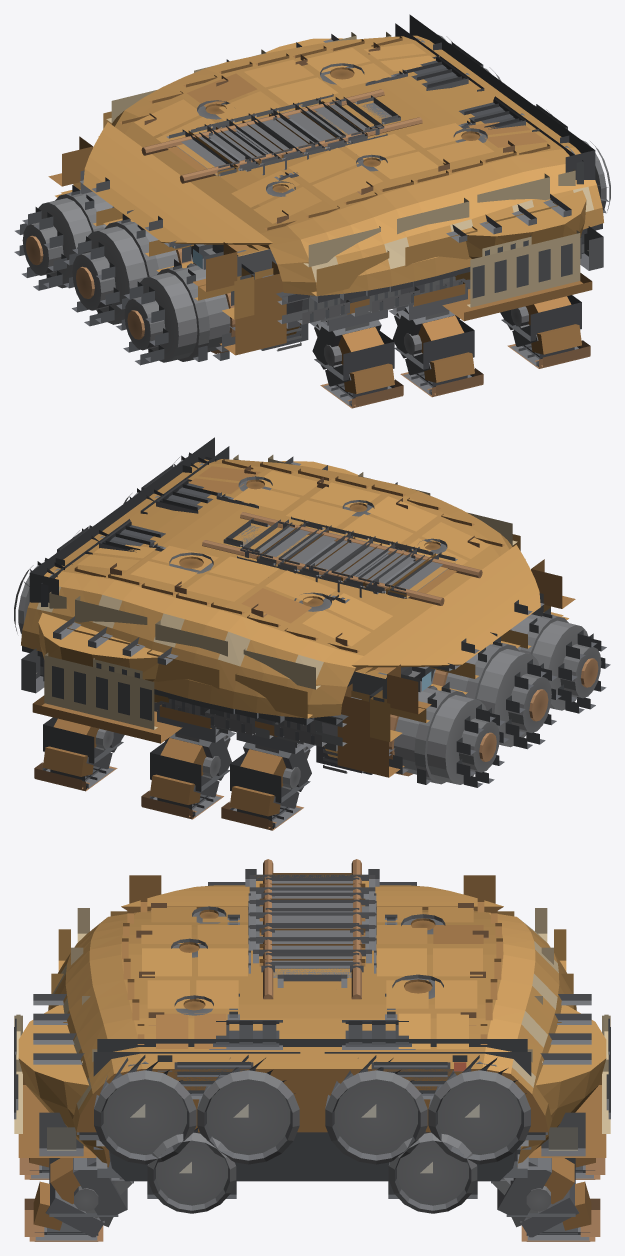
Rendered from imp_tap.glb.
The picture shows the model from 3 angles, top to bottom: view 1: azimuth 30°, elevation 25°; view 2: azimuth 150°, elevation 25°; view 3: azimuth 270°, elevation 25°; orthographic projection. The views are drawn at different scales.
Visible parts, largest first — view 1: armor, shell, drills, drill_mount, engines, leg_1, leg_3, leg_5, machinery, hull; view 2: armor, shell, drills, engines, drill_mount, leg_0, leg_2, leg_4, machinery, hull; view 3: shell, armor, engines, hull, leg_4, leg_5, thrusters, leg_2, leg_3.
Part boxes in pixels (box(x1,y1,x2,y2)): armor: box(48, 32, 603, 321); shell: box(112, 35, 603, 295); drills: box(14, 185, 300, 365); drill_mount: box(55, 182, 308, 355); engines: box(395, 14, 610, 253); leg_1: box(310, 320, 403, 408); leg_3: box(388, 305, 483, 397); leg_5: box(500, 295, 590, 368); machinery: box(276, 276, 470, 351); hull: box(262, 223, 602, 328); armor: box(21, 454, 575, 743); shell: box(21, 459, 512, 718); drills: box(323, 607, 610, 787); engines: box(14, 437, 229, 676); drill_mount: box(316, 605, 568, 777); leg_0: box(221, 742, 314, 830); leg_2: box(141, 728, 235, 819); leg_4: box(34, 717, 124, 791); machinery: box(154, 699, 347, 773); hull: box(22, 646, 361, 751); shell: box(48, 859, 576, 1132); armor: box(14, 869, 610, 1167); engines: box(93, 1020, 531, 1213); hull: box(77, 1132, 547, 1181); leg_4: box(491, 1158, 600, 1241); leg_5: box(24, 1158, 133, 1241); thrusters: box(130, 1104, 479, 1173); leg_2: box(575, 1158, 605, 1179); leg_3: box(19, 1158, 49, 1179).
Size of the model in its own units: 47.5 by 19 by 48.54.
